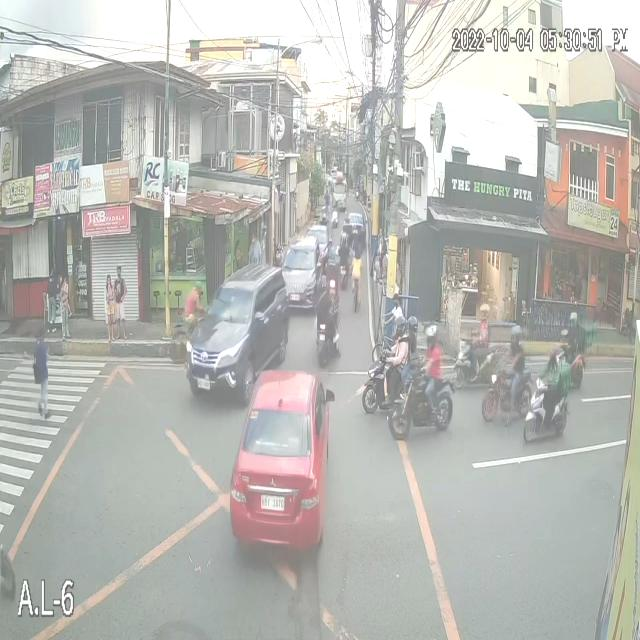Full-Faced: (320, 284, 334, 306), (479, 302, 493, 324), (326, 250, 340, 268), (545, 352, 557, 368), (425, 326, 435, 344), (512, 330, 523, 346), (408, 318, 418, 332), (568, 312, 578, 326), (395, 318, 406, 330)
Half-Faced: (336, 221, 350, 247)
Not-Wearing-Helmet: (353, 244, 362, 266)
